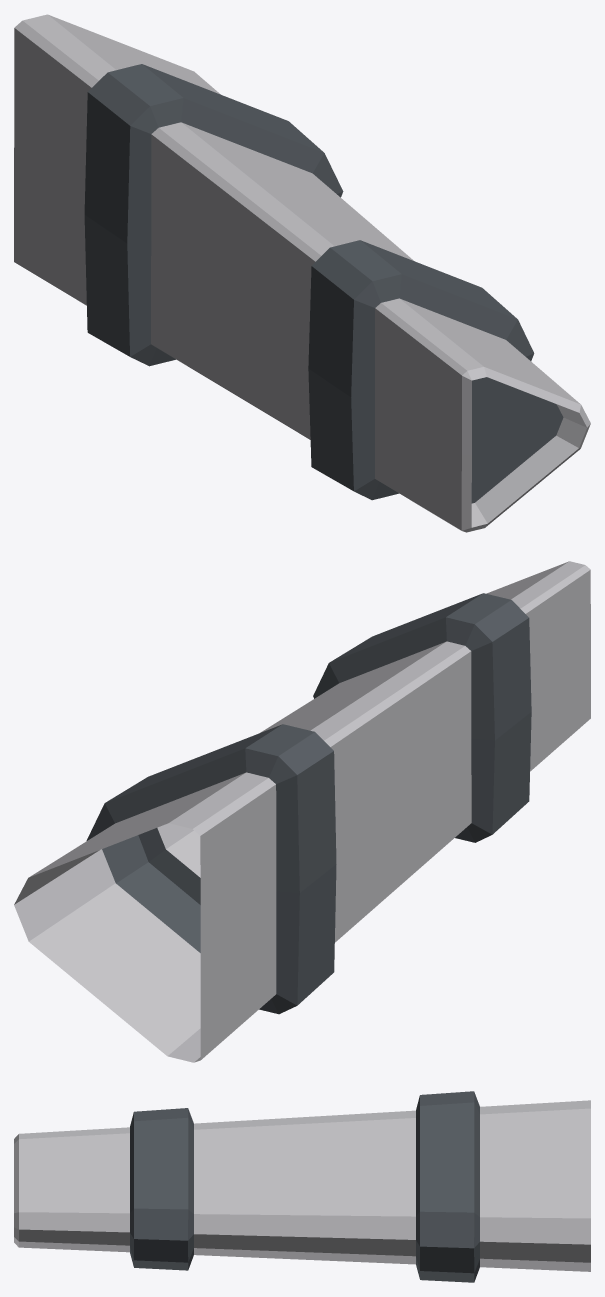
The model's file is Mothership_02_Thruster_Nozzle.fbx.
3 views of the same model, one above another, from view 1: azimuth 30°, elevation 25°; view 2: azimuth 150°, elevation 25°; view 3: azimuth 270°, elevation 25° (orthographic). The views are drawn at different scales.
Visible parts, largest first — view 1: Mothership_02_Thruster_Nozzle; view 2: Mothership_02_Thruster_Nozzle; view 3: Mothership_02_Thruster_Nozzle.
Boxes of the visible parts, bbox=[...] form: Mothership_02_Thruster_Nozzle: bbox=[14, 14, 590, 532]; Mothership_02_Thruster_Nozzle: bbox=[14, 561, 590, 1062]; Mothership_02_Thruster_Nozzle: bbox=[14, 1091, 590, 1282].
Bounding box in the file's own units: 238 × 274 × 796.
1 material, 1 textured.
